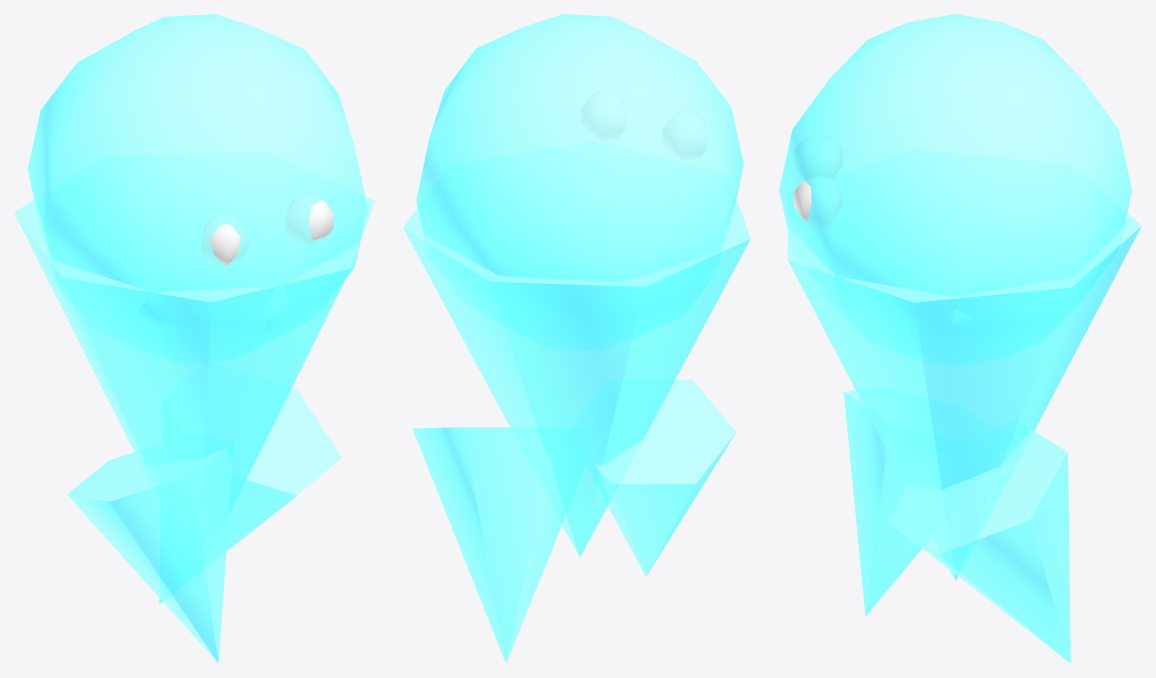
Rendered from ghost.glb.
3 views of the same model, side by side, from view 1: azimuth 30°, elevation 25°; view 2: azimuth 150°, elevation 25°; view 3: azimuth 270°, elevation 25° (orthographic). The views are drawn at different scales.
Visible parts, largest first — view 1: enemy_ghost; view 2: enemy_ghost; view 3: enemy_ghost.
Boxes of the visible parts, bbox=[...] form: enemy_ghost: bbox=[14, 14, 374, 663]; enemy_ghost: bbox=[403, 14, 750, 663]; enemy_ghost: bbox=[779, 14, 1141, 663].
Size of the model in its own units: 0.7409 by 1.4 by 0.74.
